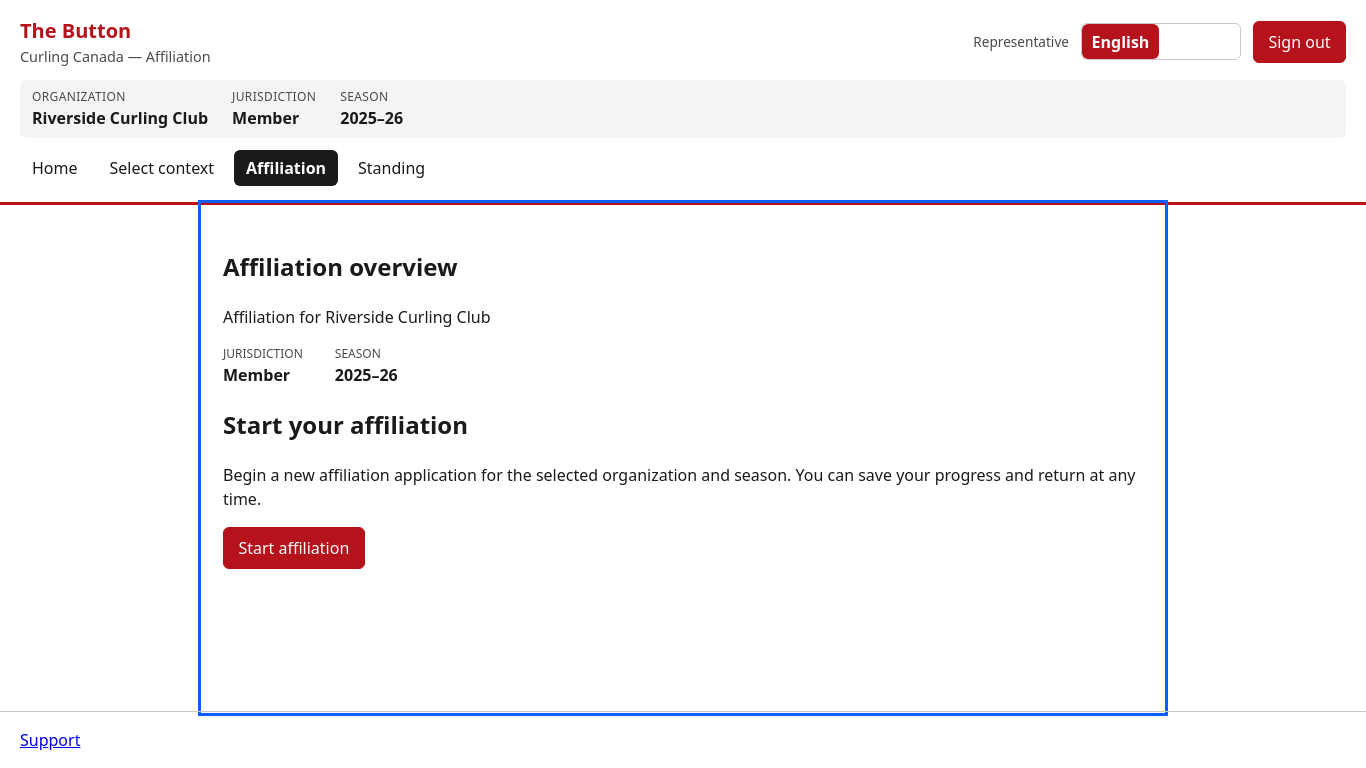
Button affiliation requirements experience › begins a new application and renders the versioned requirements checklist
expect the heading "Affiliation overview" is shown: met, box [223, 250, 458, 283]
Click the button "Start affiliation".
click(294, 548)  # box [223, 527, 365, 569]
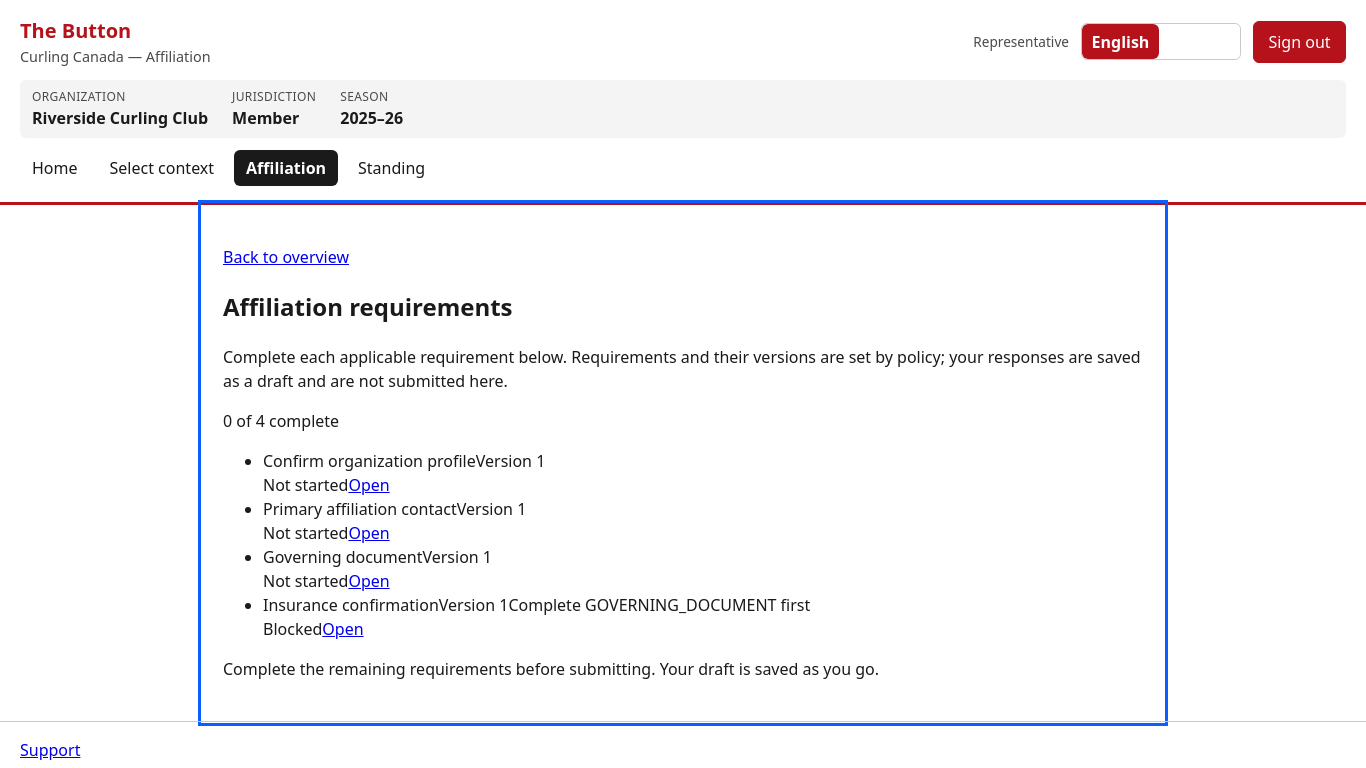
expect the heading "Affiliation requirements" is shown: met, box [223, 290, 512, 323]
expect the text "Confirm organization profile" is shown: met, box [263, 450, 476, 472]
expect the text "Primary affiliation contact" is shown: met, box [263, 498, 457, 520]
